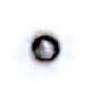cancer: (19, 19, 79, 74)
